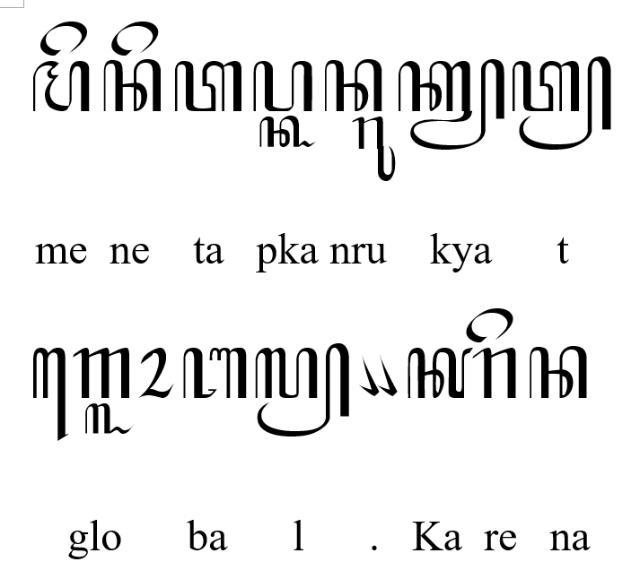-l: (254, 342, 350, 440)
-t: (512, 56, 612, 150)
K: (407, 347, 473, 399)
_k: (258, 116, 316, 148)
_l: (84, 403, 134, 436)
b: (182, 348, 246, 400)
e: (110, 19, 158, 57), (466, 308, 514, 345), (40, 21, 89, 56)
e1: (32, 347, 68, 441)
g: (72, 348, 132, 400)
kom: (377, 353, 398, 397), (358, 355, 379, 398)
ky: (398, 59, 506, 152)
m: (31, 60, 90, 113)
n: (324, 59, 384, 113), (528, 346, 588, 400), (102, 59, 162, 112)
o: (138, 347, 174, 399)
p: (251, 59, 313, 113)
r: (472, 348, 518, 400)
ru: (352, 116, 396, 182)
t: (173, 60, 244, 114)
